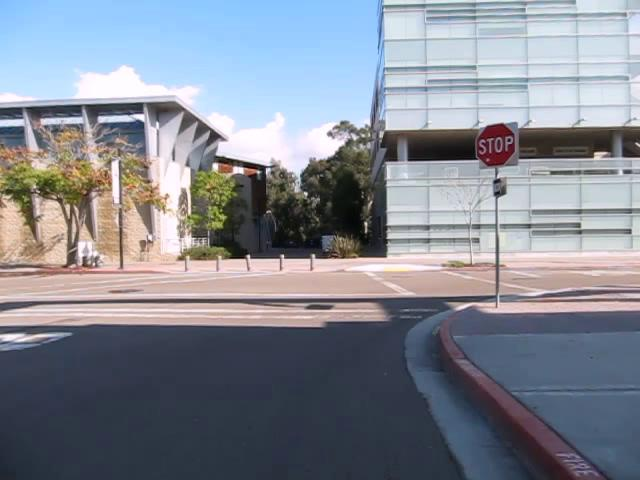stop: (474, 122, 516, 168)
